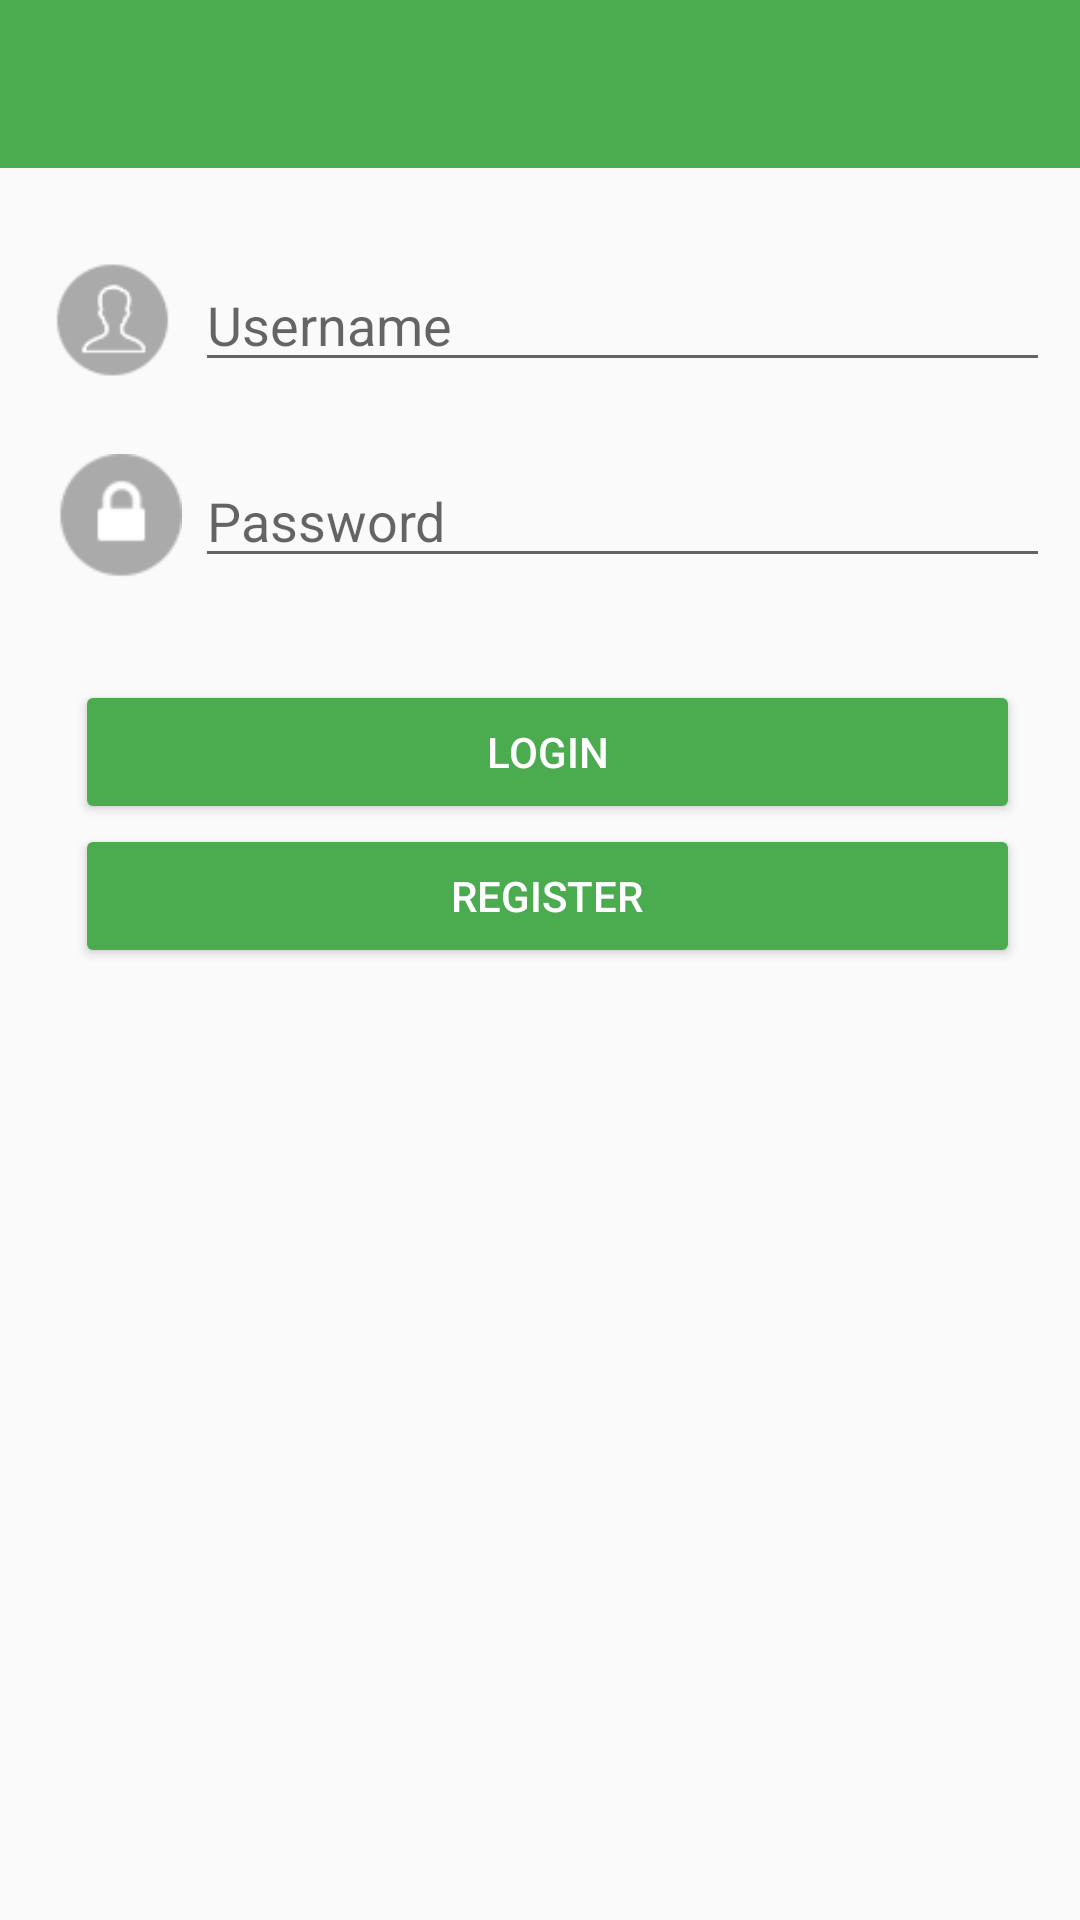

Where icons sit on this 1080 x 1920 app screen, as (x1, y1, x2, y2):
circledude: (57, 264, 168, 376)
circlelock: (60, 454, 182, 576)
